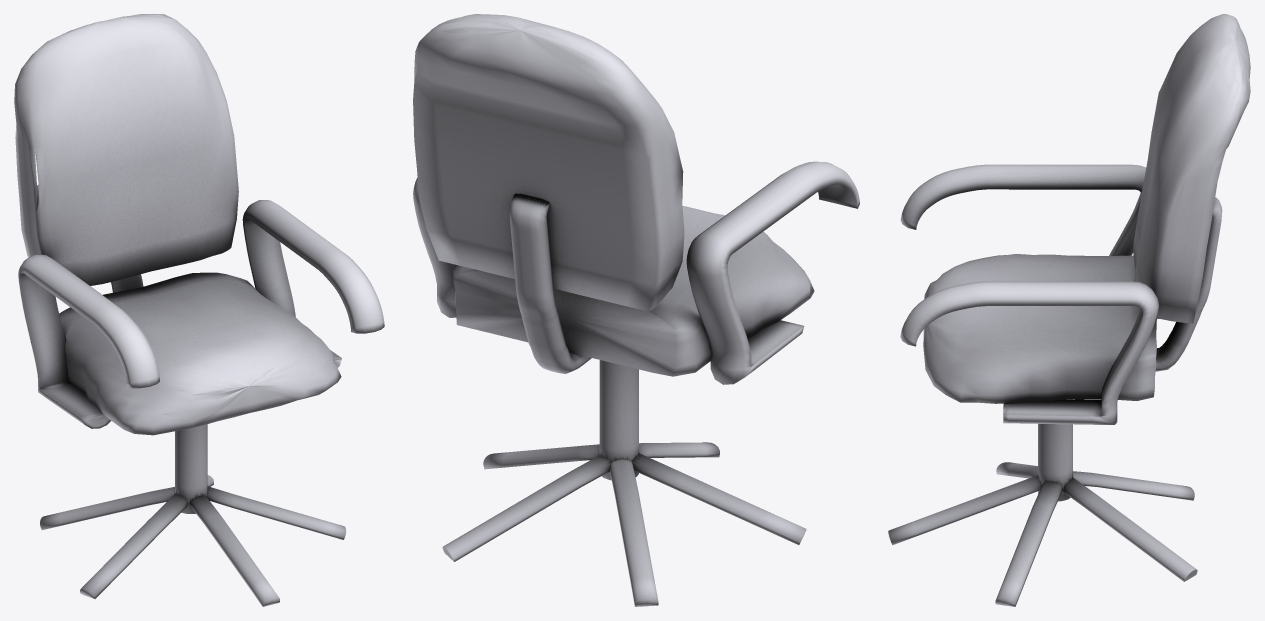
Rendered from office-chair.glb.
The picture shows the model from 3 angles, left to right: view 1: azimuth 30°, elevation 25°; view 2: azimuth 150°, elevation 25°; view 3: azimuth 270°, elevation 25°; orthographic projection. The views are drawn at different scales.
Visible parts, largest first — view 1: MnB_OfficeChair1P2, MnB_OfficeChair1P3_8x128, MnB_OfficeChair1P1_16x128; view 2: MnB_OfficeChair1P2, MnB_OfficeChair1P1_16x128, MnB_OfficeChair1P3_8x128, MnB_OfficeChair1P4_16x128; view 3: MnB_OfficeChair1P2, MnB_OfficeChair1P3_8x128, MnB_OfficeChair1P1_16x128, MnB_OfficeChair1P4_16x128.
Part boxes in pixels (left/top/right/bottom): MnB_OfficeChair1P2: left=14, top=14, right=341, bottom=435; MnB_OfficeChair1P3_8x128: left=18, top=200, right=384, bottom=428; MnB_OfficeChair1P1_16x128: left=40, top=424, right=346, bottom=606; MnB_OfficeChair1P2: left=413, top=14, right=814, bottom=376; MnB_OfficeChair1P1_16x128: left=442, top=360, right=806, bottom=606; MnB_OfficeChair1P3_8x128: left=413, top=161, right=859, bottom=384; MnB_OfficeChair1P4_16x128: left=509, top=193, right=591, bottom=373; MnB_OfficeChair1P2: left=923, top=14, right=1250, bottom=403; MnB_OfficeChair1P3_8x128: left=900, top=164, right=1158, bottom=424; MnB_OfficeChair1P1_16x128: left=888, top=399, right=1197, bottom=606; MnB_OfficeChair1P4_16x128: left=1155, top=197, right=1222, bottom=371.
Bounding box in the file's own units: 15.88 × 27.34 × 17.86.
4 materials, 4 textured.
